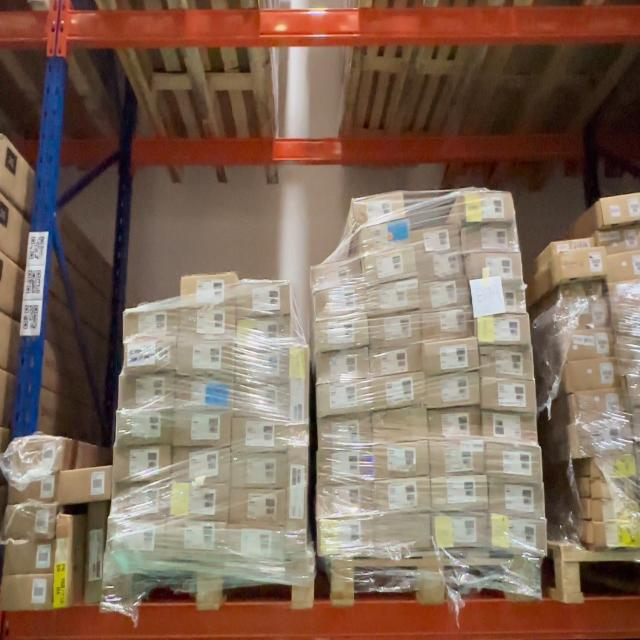box: (490, 514, 548, 558), (286, 447, 308, 559), (172, 374, 236, 410), (489, 478, 545, 519), (372, 372, 428, 413), (167, 483, 229, 520), (375, 509, 432, 549), (317, 515, 375, 554), (486, 440, 542, 480), (361, 216, 414, 258), (374, 476, 432, 514), (113, 444, 171, 482), (364, 244, 416, 286), (116, 408, 172, 447), (289, 344, 310, 447), (314, 282, 366, 323), (317, 480, 373, 518), (85, 501, 106, 601), (373, 406, 428, 444), (316, 446, 371, 484), (170, 447, 231, 481), (432, 512, 488, 549), (432, 475, 488, 512), (118, 372, 174, 409), (369, 312, 422, 351), (236, 349, 289, 388), (565, 356, 619, 394), (429, 439, 486, 475), (317, 381, 371, 419), (179, 272, 236, 308), (374, 441, 429, 478), (178, 304, 236, 339), (482, 410, 538, 446), (318, 413, 372, 450), (229, 489, 286, 524), (353, 192, 404, 231), (316, 347, 369, 384), (316, 315, 369, 352), (167, 520, 226, 553), (111, 484, 170, 517), (226, 527, 283, 561), (481, 376, 536, 411), (231, 452, 286, 487), (1, 572, 53, 609), (176, 339, 236, 371), (427, 372, 480, 408), (367, 278, 420, 314), (58, 466, 111, 502), (425, 338, 479, 373), (124, 336, 176, 372), (3, 538, 55, 574), (173, 412, 231, 444), (107, 519, 165, 551), (11, 439, 61, 476), (423, 306, 474, 342), (555, 246, 607, 281), (414, 248, 466, 283), (124, 308, 179, 341), (571, 389, 624, 423), (370, 344, 423, 378), (232, 419, 288, 451), (4, 504, 55, 539), (237, 282, 291, 315), (476, 314, 531, 346), (428, 408, 482, 440), (575, 422, 631, 452), (479, 346, 533, 377), (236, 384, 288, 416), (54, 516, 72, 608), (237, 316, 291, 346), (562, 327, 614, 358), (411, 222, 461, 254), (312, 259, 362, 291), (9, 472, 59, 504), (560, 298, 609, 330), (419, 279, 468, 311), (468, 252, 523, 280), (462, 191, 516, 219), (465, 224, 519, 251), (474, 285, 526, 313), (592, 521, 640, 546), (586, 499, 635, 519), (587, 478, 633, 498), (560, 281, 602, 302), (590, 457, 634, 474), (550, 238, 595, 254)
